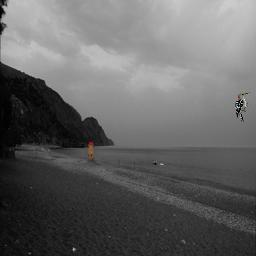Woodpecker: (236, 92, 251, 123)
